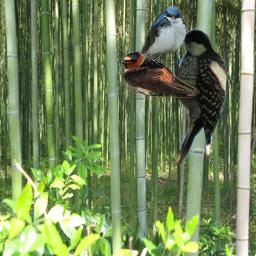Swallow: (121, 51, 200, 98), (134, 5, 188, 72)
Woodpecker: (174, 28, 228, 165)
